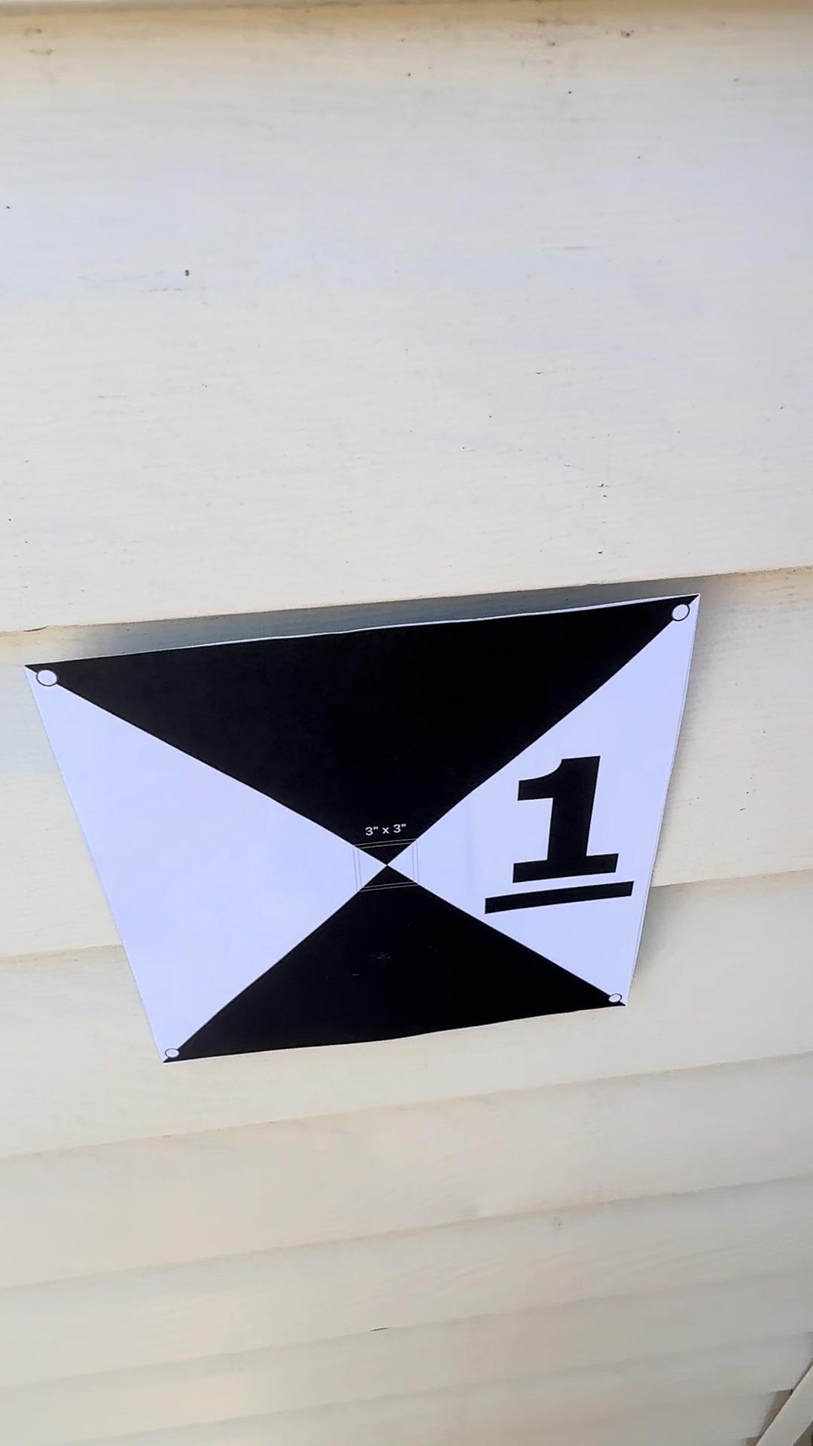target1: (9, 574, 702, 1088)
